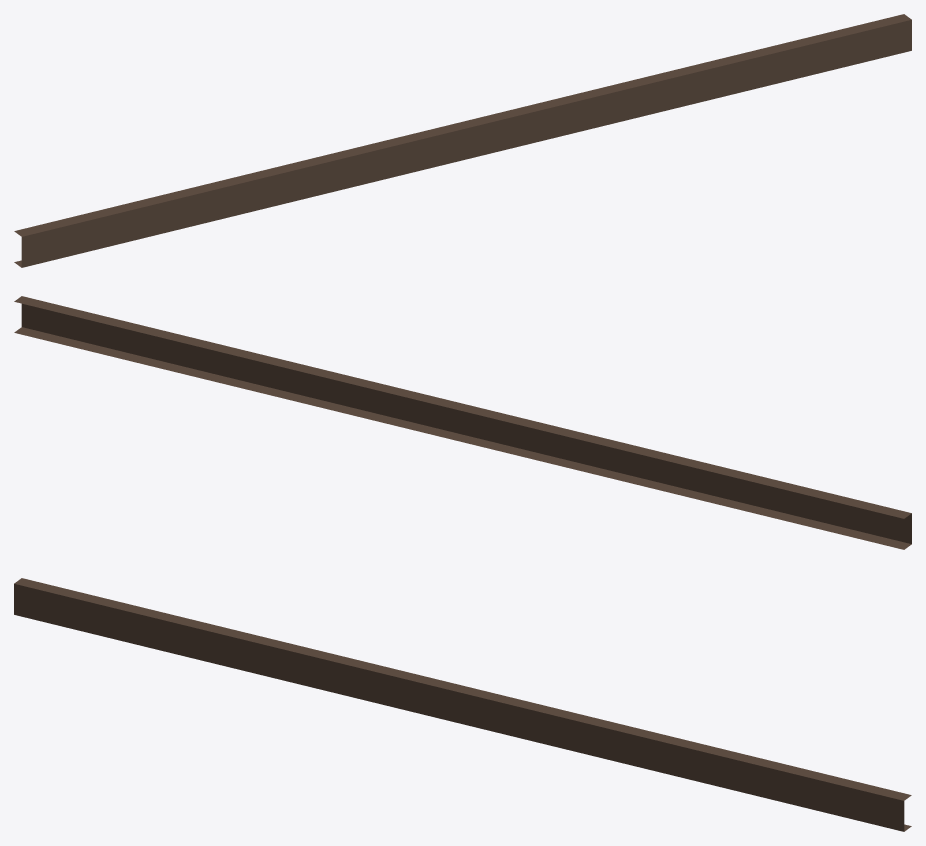
The model's file is DBK_Molding_Top_Full.fbx.
The picture shows the model from 3 angles, top to bottom: view 1: azimuth 30°, elevation 25°; view 2: azimuth 150°, elevation 25°; view 3: azimuth 330°, elevation 25°; orthographic projection.
Visible parts, largest first — view 1: DBK_Molding_Top_Full; view 2: DBK_Molding_Top_Full; view 3: DBK_Molding_Top_Full.
Part boxes in pixels (<box>): DBK_Molding_Top_Full: <box>14,14,911,267</box>; DBK_Molding_Top_Full: <box>14,296,911,549</box>; DBK_Molding_Top_Full: <box>14,578,911,831</box>.
Size of the model in its own units: 300 by 10 by 4.56.
